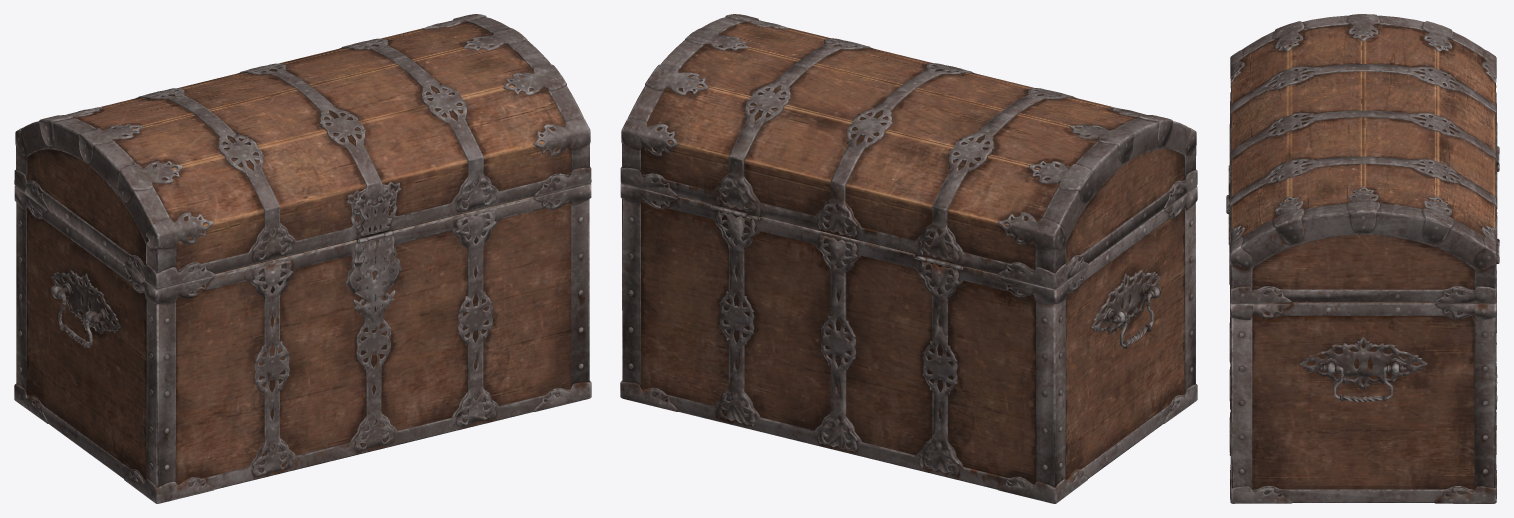
Rendered from treasure_chest.glb.
3 renders of one model, left to right at view 1: azimuth 30°, elevation 25°; view 2: azimuth 150°, elevation 25°; view 3: azimuth 270°, elevation 25°, orthographic. The views are drawn at different scales.
Parts seen in each view (by area): view 1: treasure_chest_bottom; view 2: treasure_chest_bottom; view 3: treasure_chest_bottom.
Boxes of the visible parts, x1,y1,x2,y2 form: treasure_chest_bottom: (14,14,591,503); treasure_chest_bottom: (620,14,1197,503); treasure_chest_bottom: (1226,14,1499,503).
Bounding box in the file's own units: 0.959 × 0.6188 × 0.5227.
Materials: 1 (1 with a texture image).
